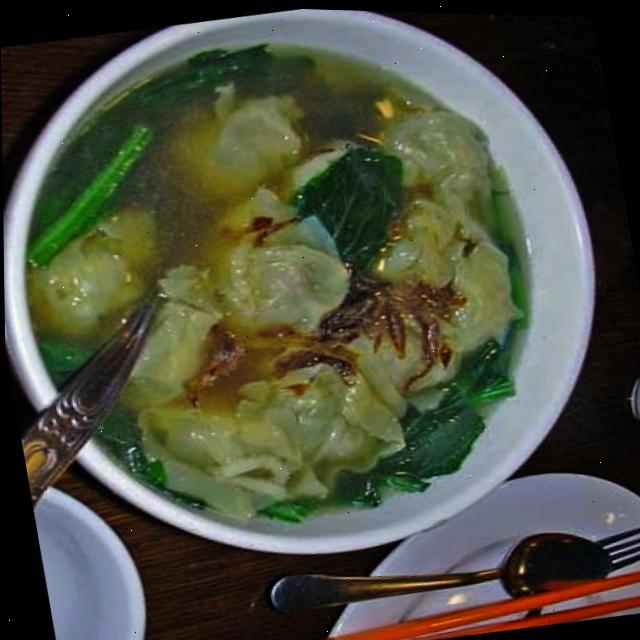汤锅炖物: (14, 10, 594, 572)
